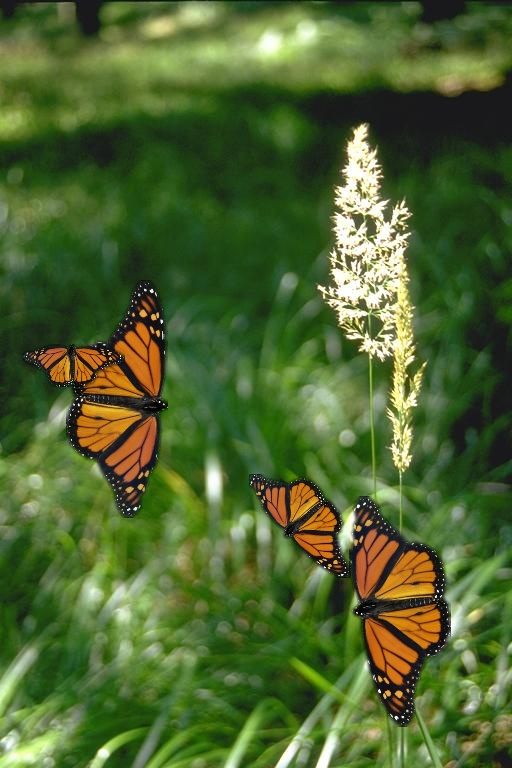danaus_plexippus: (66, 280, 168, 518), (349, 496, 451, 727), (249, 474, 351, 578), (23, 344, 125, 387)
